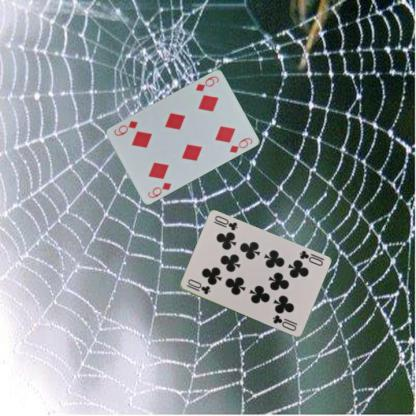10c: (184, 276, 211, 296), (296, 248, 324, 267)
6d: (145, 180, 173, 198), (193, 74, 220, 92)
